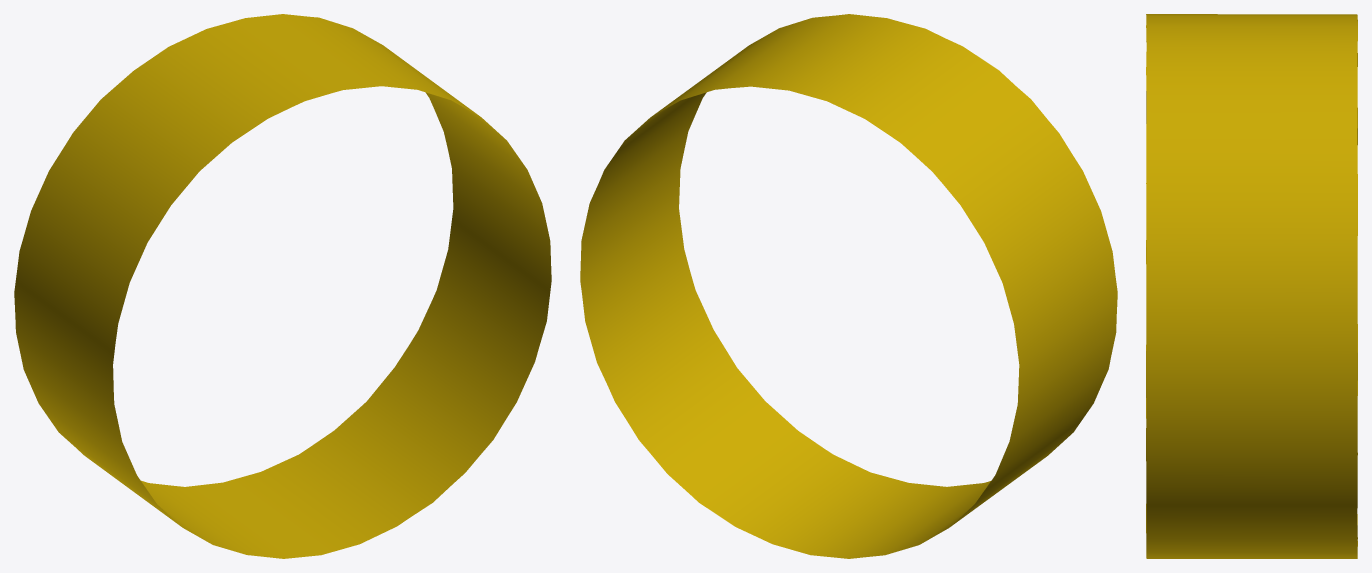
Rendered from original-5.obj.
3 renders of one model, left to right at view 1: azimuth 30°, elevation 25°; view 2: azimuth 150°, elevation 25°; view 3: azimuth 270°, elevation 25°, orthographic. The views are drawn at different scales.
Visible parts, largest first — view 1: #ID29; view 2: #ID29; view 3: #ID29.
Part boxes in pixels (bbox=[...]): #ID29: bbox=[14, 14, 551, 558]; #ID29: bbox=[580, 14, 1117, 558]; #ID29: bbox=[1146, 14, 1357, 558].
Size of the model in its own units: 0.1361 by 0.1362 by 0.053.
